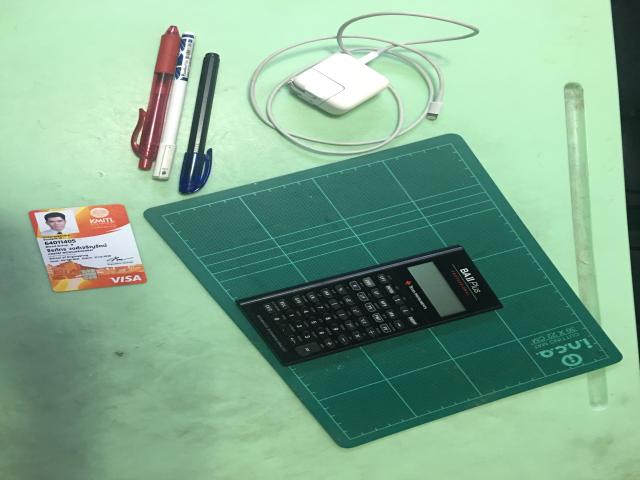Pen: (130, 27, 221, 195)
wire: (248, 12, 478, 154)
